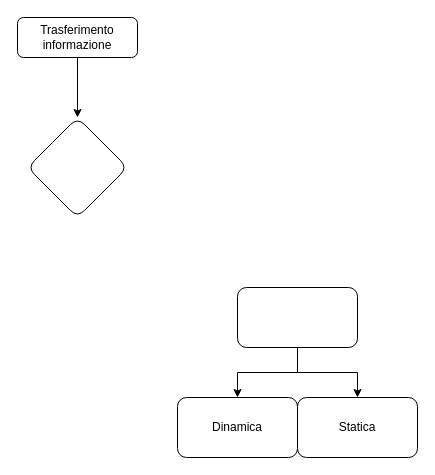
Some shapes in this 435 by 475 pixel diagram are drawn without their labels. Each missing label, with the centre of its shape:
Modi Di Trasferimento: point (77, 167)
Multiplazione: point (297, 317)
